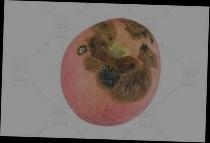rotten apple: (76, 14, 159, 102)
